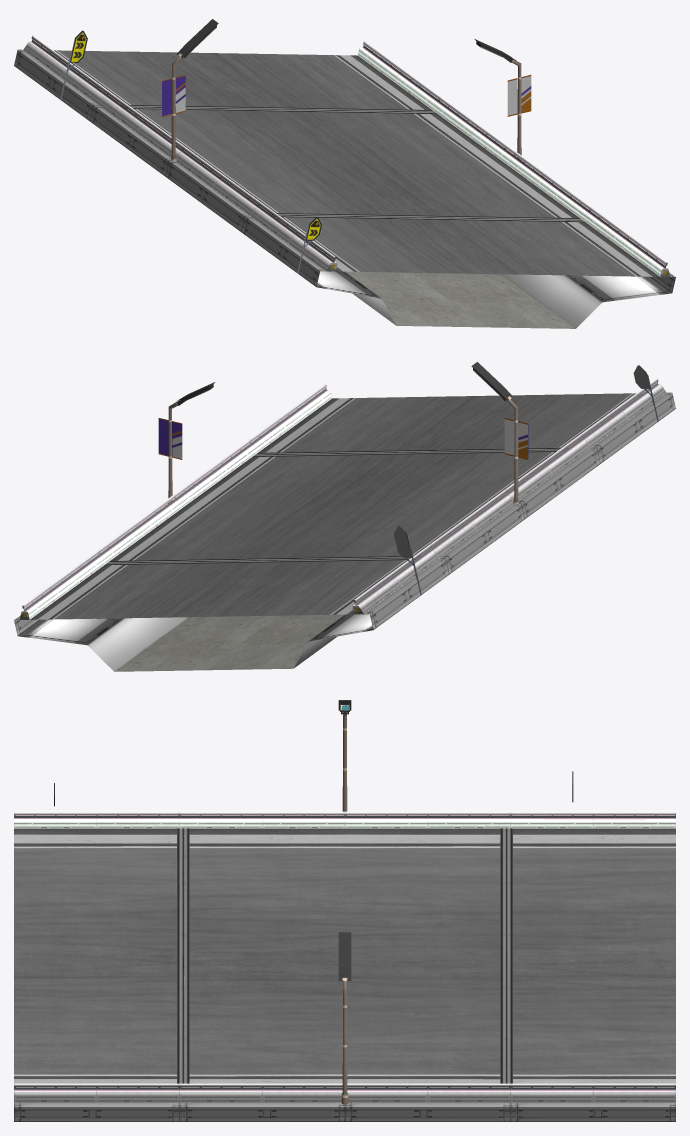
3 views of the same model, one above another, from view 1: azimuth 30°, elevation 25°; view 2: azimuth 150°, elevation 25°; view 3: azimuth 270°, elevation 25° (orthographic). The views are drawn at different scales.
Visible parts, largest first — view 1: standard_road, standard_bridge, barrier_elevated2, wall_straight_elevated, banking_middle_lines, pro_streetlight_banner_1, pro_streetlight_banner, dress_corner_warning_right; view 2: standard_road, standard_bridge, barrier_elevated2, wall_straight_elevated, banking_middle_lines, pro_streetlight_banner_1, pro_streetlight_banner, dress_corner_warning_right; view 3: standard_road, wall_straight_elevated, barrier_elevated2, standard_bridge, banking_middle_lines, pro_streetlight_banner.
Boxes of the visible parts, bbox=[...] form: standard_road: bbox=[47, 50, 659, 276]; standard_bridge: bbox=[14, 49, 675, 328]; barrier_elevated2: bbox=[31, 35, 670, 276]; wall_straight_elevated: bbox=[23, 35, 667, 270]; banking_middle_lines: bbox=[133, 105, 560, 221]; pro_streetlight_banner_1: bbox=[162, 19, 218, 161]; pro_streetlight_banner: bbox=[474, 39, 531, 160]; dress_corner_warning_right: bbox=[60, 30, 321, 273]; standard_road: bbox=[30, 393, 642, 619]; standard_bridge: bbox=[14, 392, 675, 671]; barrier_elevated2: bbox=[19, 378, 658, 619]; wall_straight_elevated: bbox=[22, 378, 666, 613]; banking_middle_lines: bbox=[129, 448, 556, 564]; pro_streetlight_banner_1: bbox=[471, 362, 528, 504]; pro_streetlight_banner: bbox=[158, 382, 215, 503]; dress_corner_warning_right: bbox=[394, 365, 658, 595]; standard_road: bbox=[14, 828, 675, 1083]; wall_straight_elevated: bbox=[14, 812, 675, 1102]; barrier_elevated2: bbox=[14, 811, 675, 1089]; standard_bridge: bbox=[14, 1102, 675, 1121]; banking_middle_lines: bbox=[177, 848, 512, 1073]; pro_streetlight_banner: bbox=[338, 932, 351, 1104].
Bounding box in the file's own units: 4511 × 2897 × 6400.
